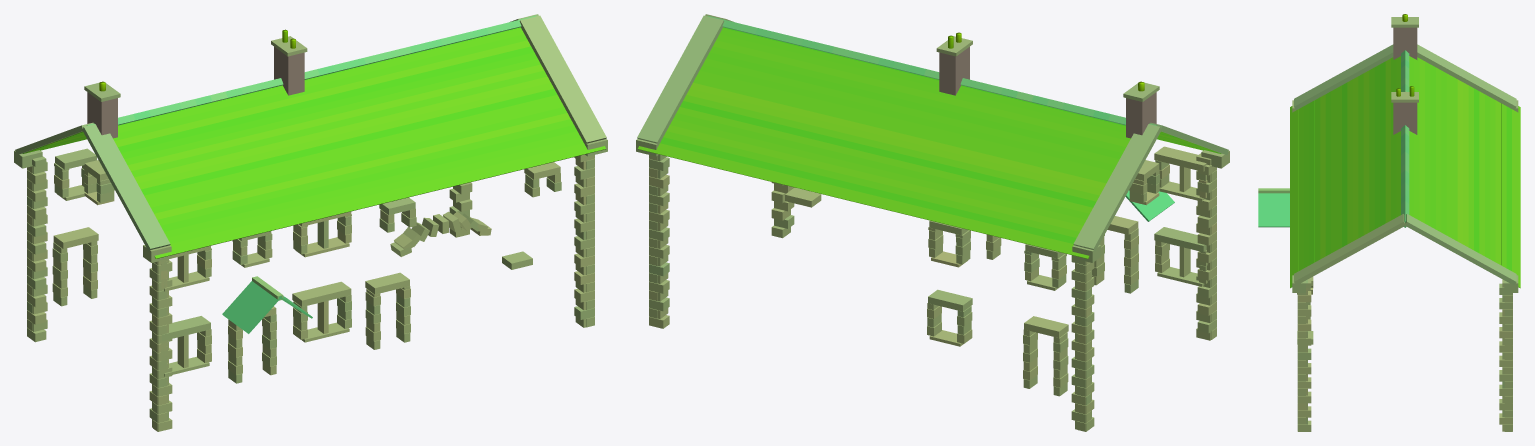
The model's file is SM_Bld_009_Stone.glb.
The picture shows the model from 3 angles, left to right: view 1: azimuth 30°, elevation 25°; view 2: azimuth 150°, elevation 25°; view 3: azimuth 270°, elevation 25°; orthographic projection. The views are drawn at different scales.
Parts seen in each view (by area): view 1: SM_Bld_009_Stone; view 2: SM_Bld_009_Stone; view 3: SM_Bld_009_Stone.
Boxes of the visible parts, <box> form: SM_Bld_009_Stone: <box>14,14,607,431</box>; SM_Bld_009_Stone: <box>636,14,1229,431</box>; SM_Bld_009_Stone: <box>1258,14,1520,431</box>.
Size of the model in its own units: 16.35 by 10.34 by 9.9.
